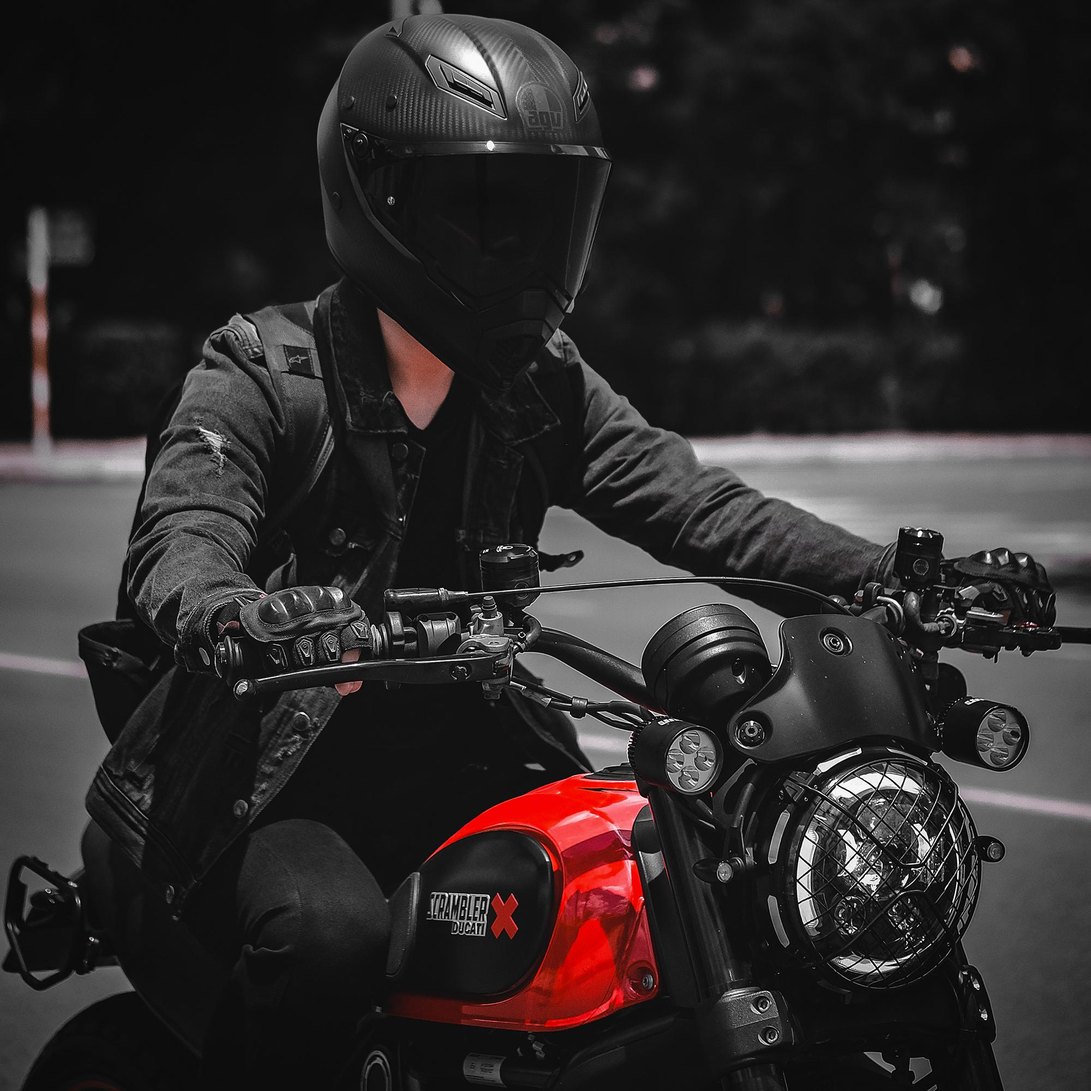helmet: (315, 11, 614, 400)
